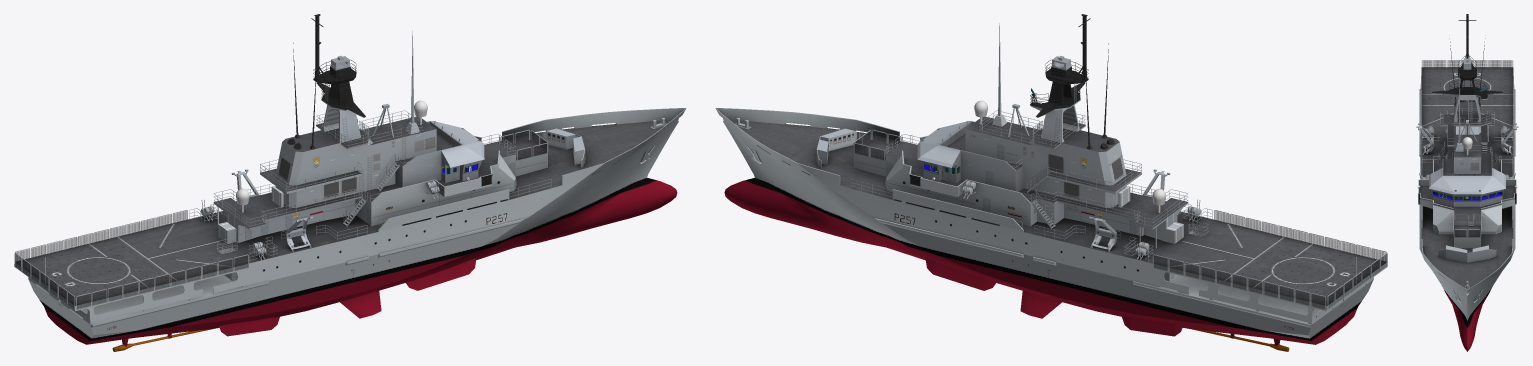
Rendered from hms_clyde.gltf.
The picture shows the model from 3 angles, left to right: view 1: azimuth 30°, elevation 25°; view 2: azimuth 150°, elevation 25°; view 3: azimuth 270°, elevation 25°; orthographic projection. The views are drawn at different scales.
Visible parts, largest first — view 1: hull, main_deck, ss_back, ss_decks, ss_front, railings, ss_bridge, net_right_Details_0, ss_top, lower_deck, net_left_Details_0, guard (+2 smaller); view 2: hull, main_deck, ss_back, ss_decks, ss_front, ss_bridge, railings, net_left_Details_0, ss_top, lower_deck, net_right_Details_0, guard (+2 smaller); view 3: main_deck, ss_decks, hull, ss_bridge, ss_front, railings, ss_back, guard, ss_top, net_back_Details_0, lower_deck, gun_net_front_Details_0 (+9 smaller).
Boxes of the visible parts, x1,y1,x2,y2 form: hull: [14, 108, 686, 351]; main_deck: [15, 108, 684, 305]; ss_back: [213, 125, 436, 243]; ss_decks: [214, 69, 546, 227]; ss_front: [371, 121, 547, 226]; railings: [189, 59, 551, 262]; ss_bridge: [395, 121, 484, 187]; net_right_Details_0: [76, 254, 248, 309]; ss_top: [313, 55, 365, 142]; lower_deck: [36, 247, 268, 324]; net_left_Details_0: [15, 209, 187, 261]; guard: [542, 128, 585, 168]; hull: [715, 108, 1387, 351]; main_deck: [717, 108, 1386, 305]; ss_back: [965, 125, 1188, 248]; ss_decks: [854, 69, 1187, 228]; ss_front: [853, 122, 1030, 226]; ss_bridge: [917, 121, 1023, 191]; railings: [850, 59, 1212, 262]; net_left_Details_0: [1153, 254, 1325, 309]; ss_top: [1030, 55, 1088, 142]; lower_deck: [1133, 230, 1365, 324]; net_right_Details_0: [1214, 210, 1386, 261]; guard: [816, 128, 859, 168]; main_deck: [1421, 67, 1513, 288]; ss_decks: [1419, 66, 1515, 237]; hull: [1419, 76, 1515, 351]; ss_bridge: [1429, 152, 1505, 206]; ss_front: [1418, 160, 1516, 248]; railings: [1422, 56, 1512, 220]; ss_back: [1440, 122, 1494, 173]; guard: [1438, 245, 1496, 262]; ss_top: [1433, 58, 1501, 122]; net_back_Details_0: [1422, 60, 1512, 67]; lower_deck: [1419, 89, 1515, 154]; gun_net_front_Details_0: [1454, 229, 1480, 237].
Bounding box in the file's own units: 82.05 × 35.65 × 14.95.
Materials: 10 (8 with a texture image).
